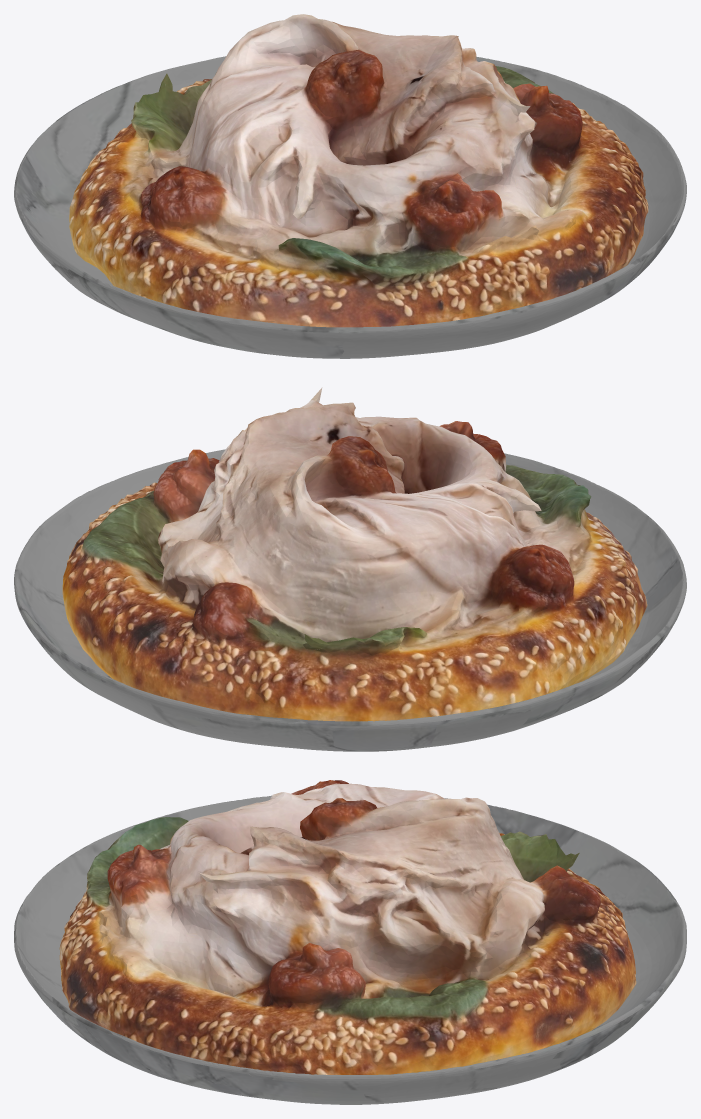
File: mahi.vasatnoon.set.glb
3 views of the same model, one above another, from view 1: azimuth 30°, elevation 25°; view 2: azimuth 150°, elevation 25°; view 3: azimuth 270°, elevation 25° (orthographic).
Visible parts, largest first — view 1: object 2, world; view 2: object 2, world; view 3: object 2, world.
Boxes of the visible parts, <box> form: object 2: <box>69,14,648,327</box>; world: <box>14,56,686,358</box>; object 2: <box>62,387,647,721</box>; world: <box>14,449,686,751</box>; object 2: <box>59,780,636,1074</box>; world: <box>14,795,686,1104</box>.
Size of the model in its own units: 0.195 by 0.0648 by 0.195.
Materials: 2 (2 with a texture image).
